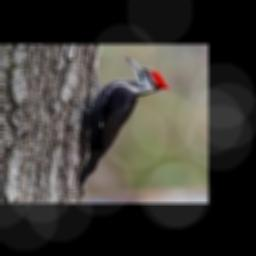Woodpecker: (74, 55, 169, 194)
